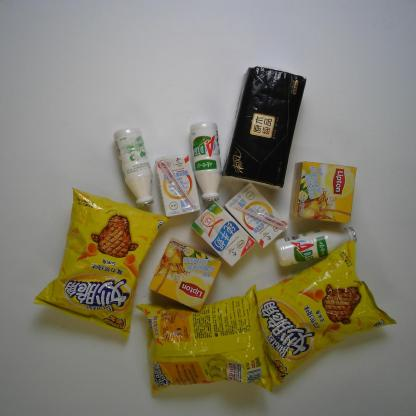Instant Drink: (148, 236, 221, 312), (290, 161, 357, 223)
Milk: (190, 200, 256, 266), (224, 182, 288, 248), (113, 126, 154, 207), (274, 226, 357, 266), (155, 153, 201, 218), (190, 121, 223, 202)
Puffed Food: (33, 186, 171, 341), (257, 240, 397, 387), (135, 284, 273, 396)
Tissue: (220, 65, 307, 190)
